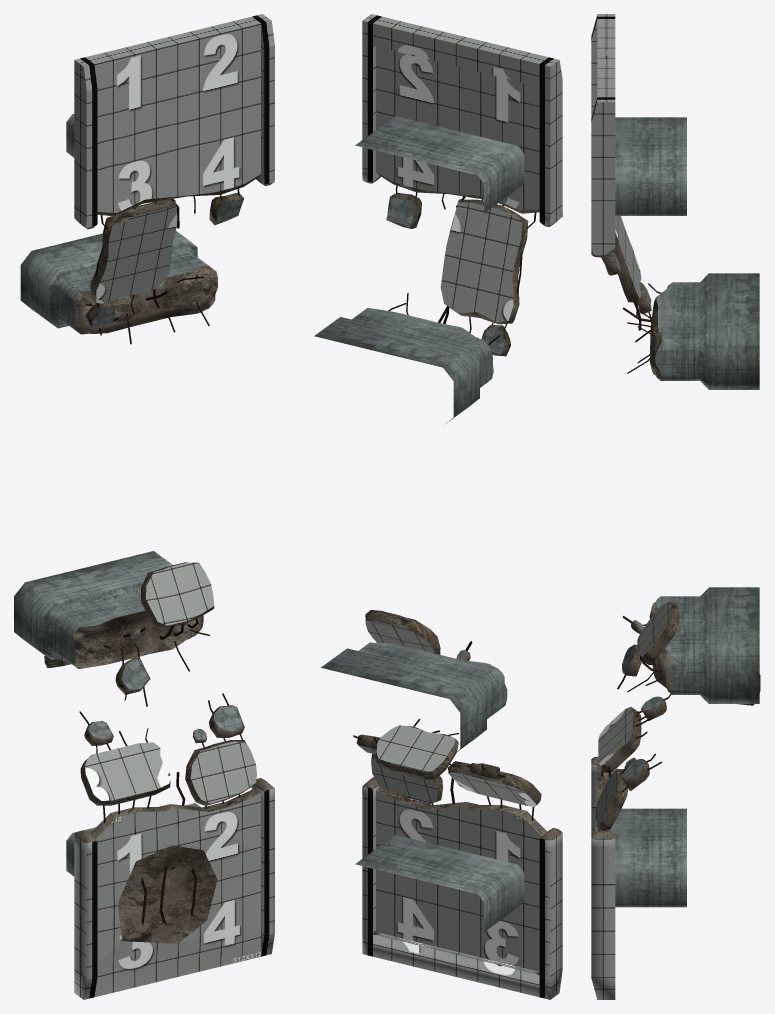
The model's file is gully_bridge02.glb.
The picture shows the model from 3 angles, left to right: view 1: azimuth 30°, elevation 25°; view 2: azimuth 150°, elevation 25°; view 3: azimuth 270°, elevation 25°; orthographic projection. The views are drawn at different scales.
Size of the model in its own units: 280 by 1327 by 227.
Materials: 4 (4 with a texture image).
